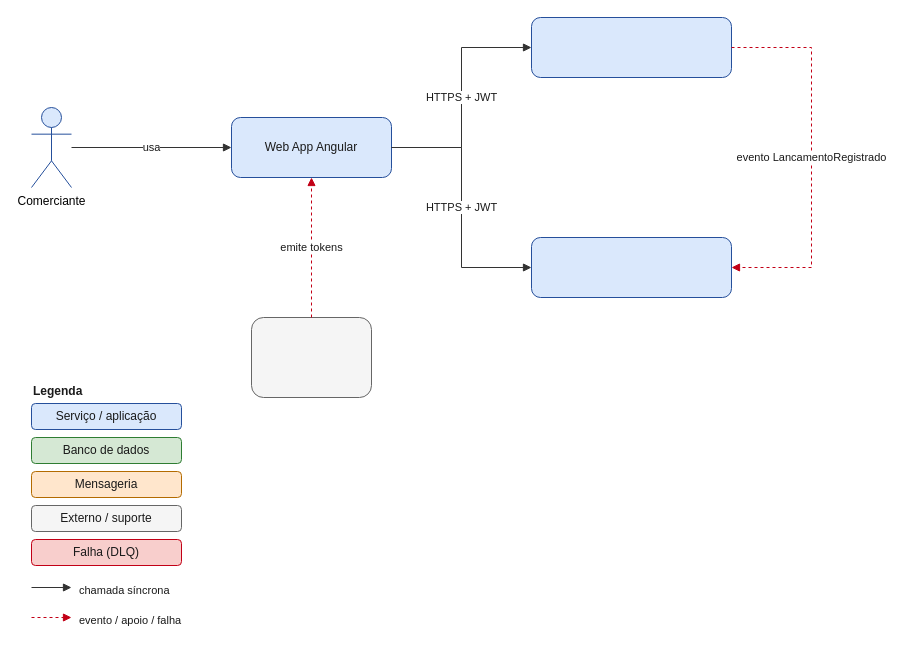
Image size: 903x645. Some labels were removed from this diagram. The shapes that lost their labels are listed below. From the top down, each one's centre as x and y in pixels, then its label:
[631,47]: Serviço de Lançamentos
[631,267]: Serviço de Consolidado
[311,357]: Identity Provider OIDC
